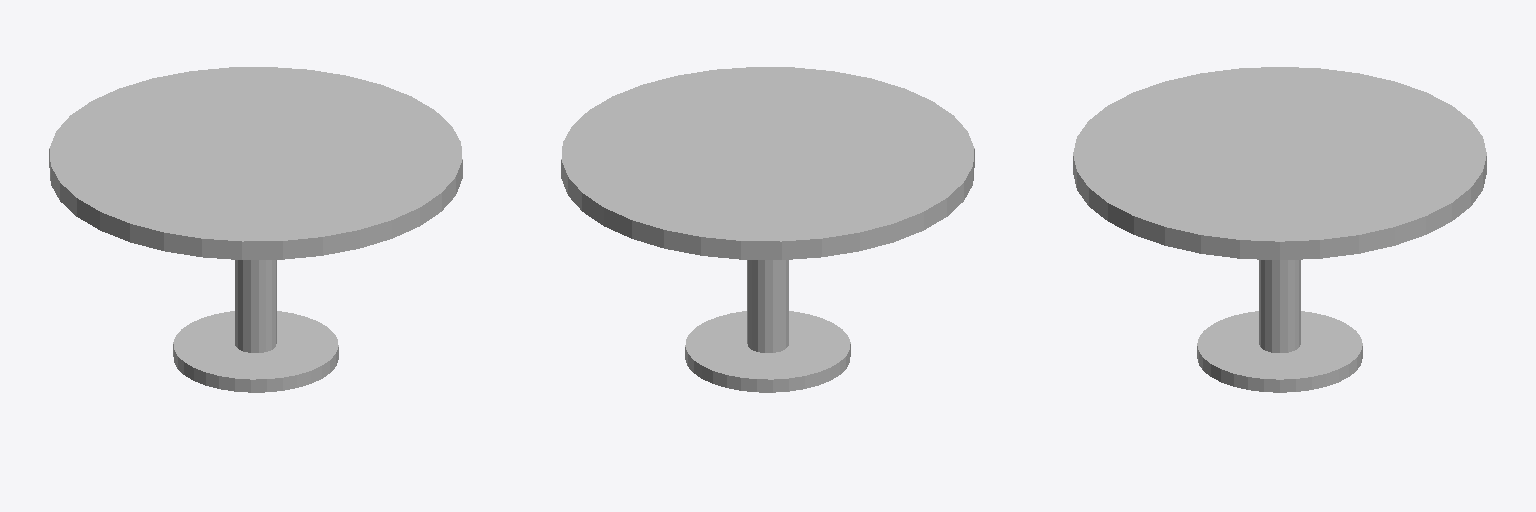
Rendered from roundTable.obj.
The picture shows the model from 3 angles: view 1: azimuth 30°, elevation 25°; view 2: azimuth 150°, elevation 25°; view 3: azimuth 270°, elevation 25°; orthographic projection.
Parts seen in each view (by area): view 1: Plateau, Socle, Pied; view 2: Plateau, Socle, Pied; view 3: Plateau, Socle, Pied.
Boxes of the visible parts, box(x1,y1,x2,y2) form: Plateau: box(49, 67, 462, 259); Socle: box(173, 311, 338, 392); Pied: box(235, 260, 276, 352); Plateau: box(561, 67, 974, 259); Socle: box(685, 311, 850, 392); Pied: box(747, 260, 788, 352); Plateau: box(1073, 67, 1486, 259); Socle: box(1197, 311, 1362, 392); Pied: box(1259, 260, 1300, 352).
Size of the model in its own units: 2 by 1.08 by 2.